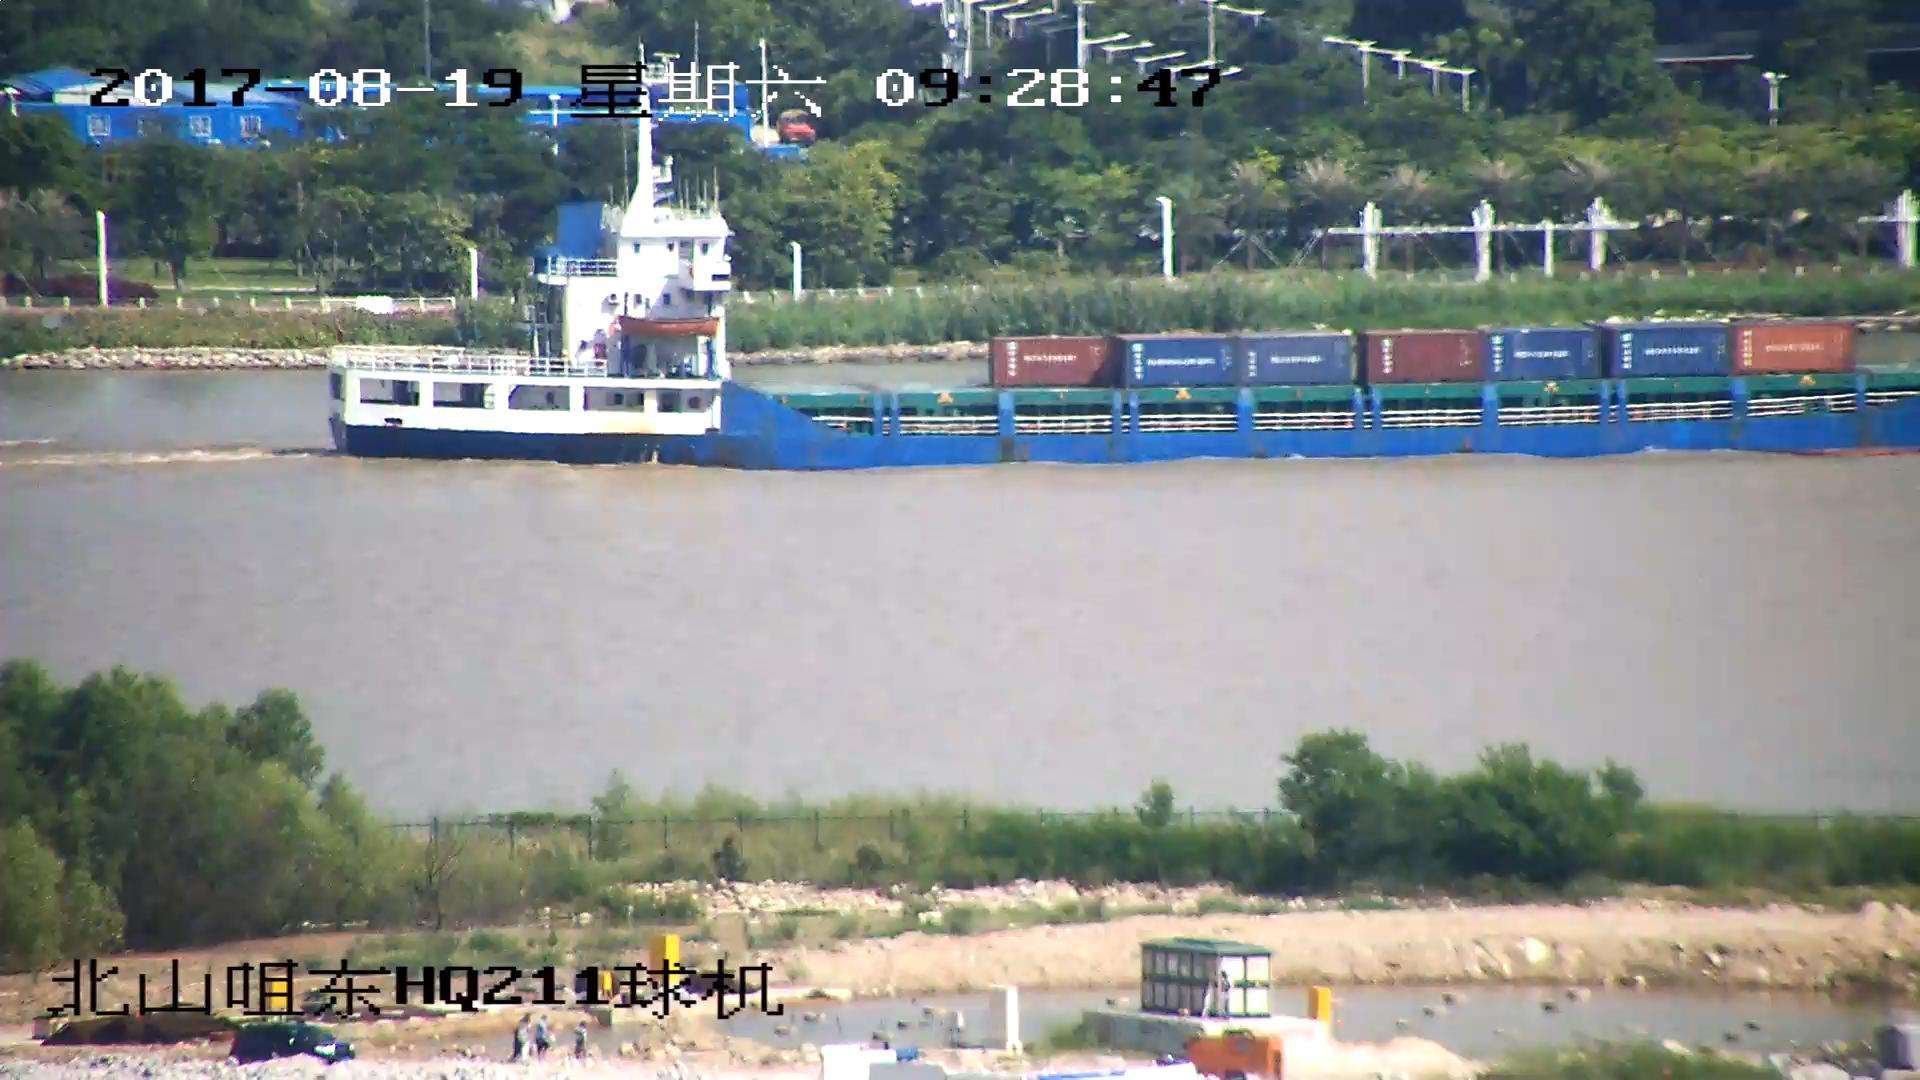Ship: (328, 111, 1920, 473)
